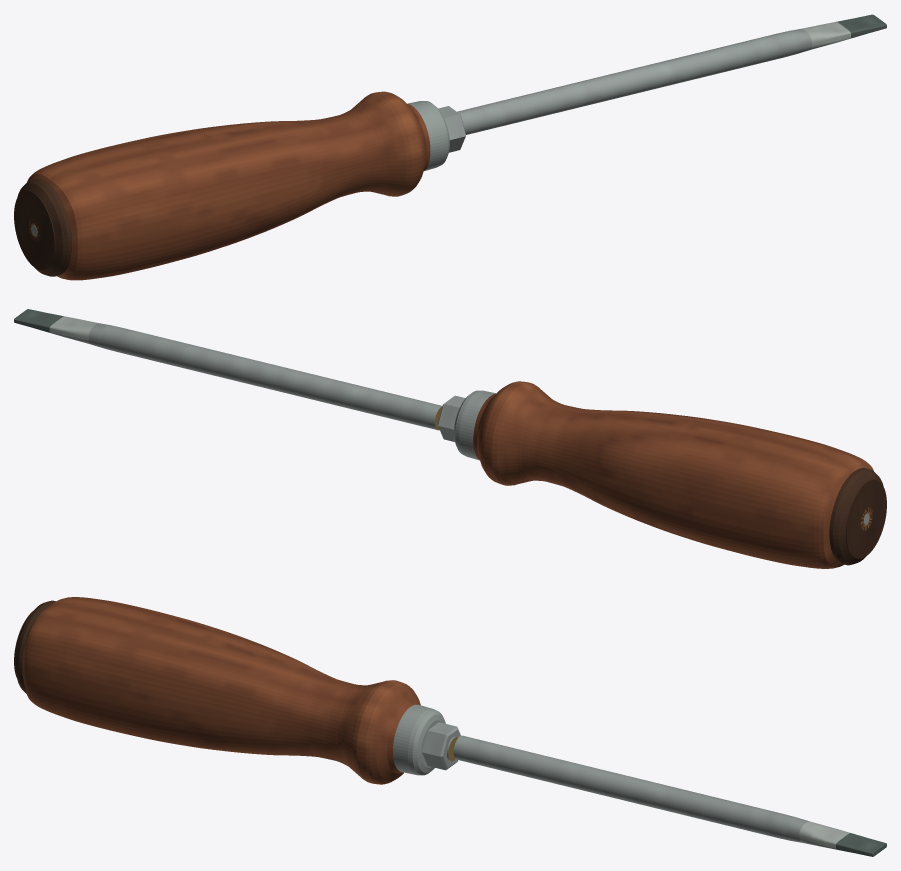
File: Cut_driver_TwoFragments_M410.fbx
3 renders of one model, top to bottom at view 1: azimuth 30°, elevation 25°; view 2: azimuth 150°, elevation 25°; view 3: azimuth 330°, elevation 25°, orthographic.
Visible parts, largest first — view 1: Cut_driver_Fragment0, Cut_driver_Fragment1; view 2: Cut_driver_Fragment0, Cut_driver_Fragment1; view 3: Cut_driver_Fragment0, Cut_driver_Fragment1.
Boxes of the visible parts, box(x1,y1,x2,y2) form: Cut_driver_Fragment0: box(14, 91, 465, 280); Cut_driver_Fragment1: box(457, 14, 886, 134); Cut_driver_Fragment0: box(438, 381, 886, 568); Cut_driver_Fragment1: box(14, 309, 442, 430); Cut_driver_Fragment0: box(14, 597, 460, 784); Cut_driver_Fragment1: box(453, 735, 886, 856).
Bounding box in the file's own units: 120 × 14.48 × 15.32.
7 materials, 6 textured.
